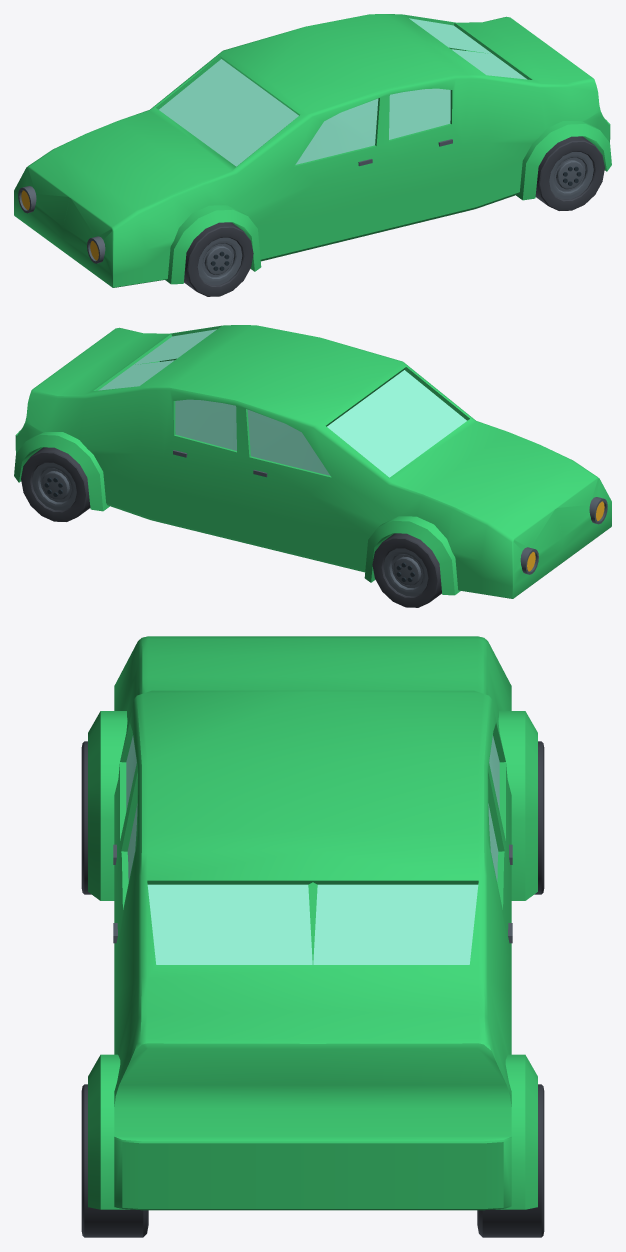
The model's file is CarGreen.fbx.
3 renders of one model, top to bottom at view 1: azimuth 30°, elevation 25°; view 2: azimuth 150°, elevation 25°; view 3: azimuth 270°, elevation 25°, orthographic. The views are drawn at different scales.
Parts seen in each view (by area): view 1: Car.003, Wheels.003; view 2: Car.003, Wheels.003; view 3: Car.003, Wheels.003.
Boxes of the visible parts, <box> form: Car.003: <box>14,14,611,287</box>; Wheels.003: <box>184,136,604,296</box>; Car.003: <box>14,325,611,598</box>; Wheels.003: <box>21,447,441,607</box>; Car.003: <box>88,636,537,1210</box>; Wheels.003: <box>81,741,544,1237</box>.
Bounding box in the file's own units: 451 × 131 × 179.
